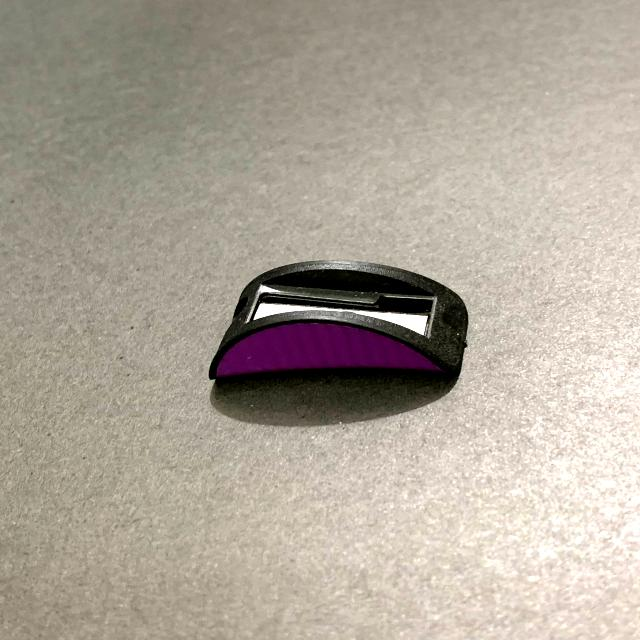Sharpner: (176, 220, 516, 414)
